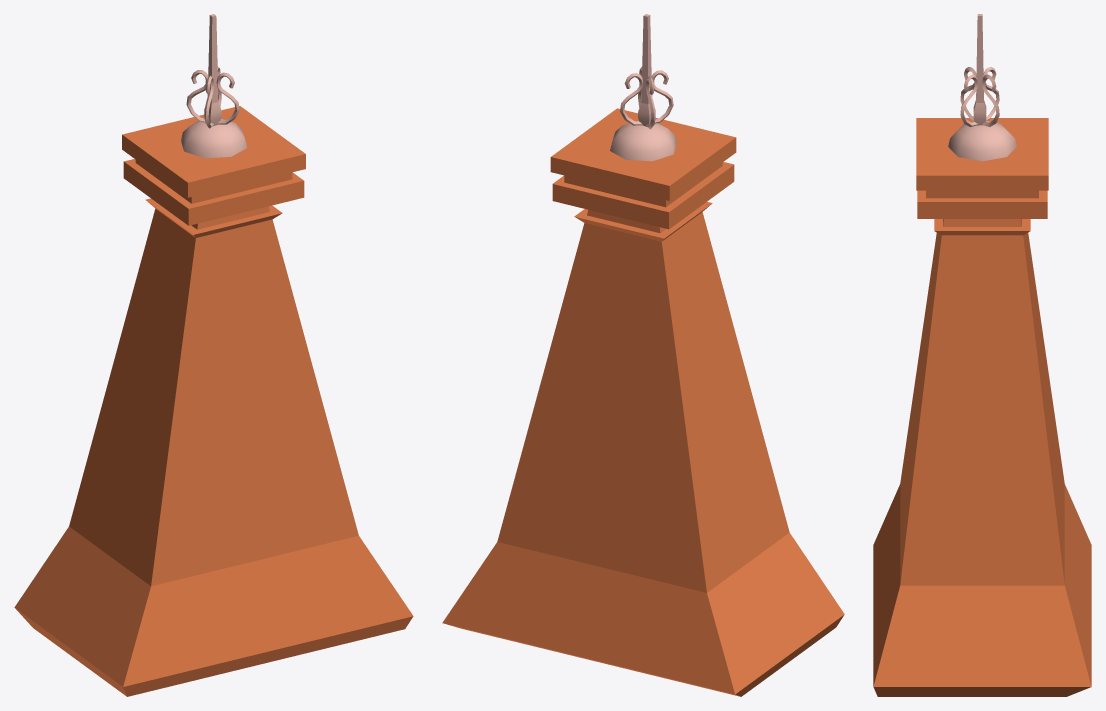
File: SP_House13_Roof02.fbx
3 views of the same model, side by side, from view 1: azimuth 30°, elevation 25°; view 2: azimuth 150°, elevation 25°; view 3: azimuth 270°, elevation 25° (orthographic).
Visible parts, largest first — view 1: SP_House13_Roof02; view 2: SP_House13_Roof02; view 3: SP_House13_Roof02.
Boxes of the visible parts, x1,y1,x2,y2 form: SP_House13_Roof02: [14, 14, 413, 696]; SP_House13_Roof02: [442, 14, 844, 696]; SP_House13_Roof02: [873, 14, 1091, 696].
Bounding box in the file's own units: 7.07 × 14.21 × 4.58.
